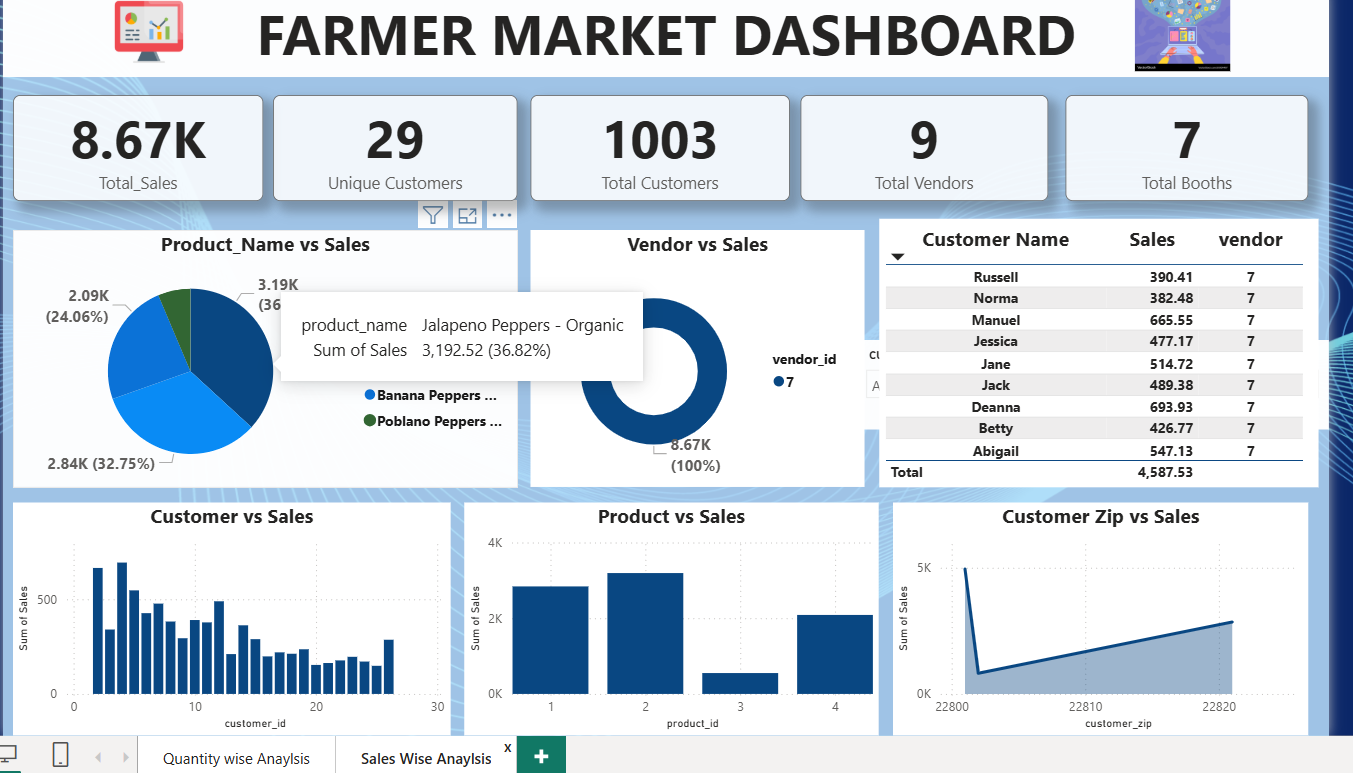

Layout of this report page (visuals, bound fields, positions):
{"tool":"powerbi","page":{"name":"Sales Wise Anaylsis","canvas":[1280,720],"ordinal":1},"visuals":[{"type":"columnChart","title":"Customer vs Sales","fields":{"Category":["customer_purchases.customer_id"],"Y":["customer_purchases.Sales"]},"box":[10,495,422.5,224.8],"z":0},{"type":"slicer","fields":{"Values":["customer_purchases.customer_id"]},"box":[823.3,337.6,456.9,86.4],"z":1000},{"type":"clusteredColumnChart","title":"Product vs Sales","fields":{"Category":["product.product_id"],"Y":["customer_purchases.Sales"]},"box":[445.3,495,399.7,224.8],"z":2000},{"type":"pieChart","title":"Product_Name vs Sales","fields":{"Category":["product.product_name"],"Y":["customer_purchases.Sales"]},"box":[9.6,231.9,487.1,248.4],"z":3000},{"type":"donutChart","title":"Vendor vs Sales","fields":{"Category":["customer_purchases.vendor_id"],"Y":["customer_purchases.Sales"]},"box":[509.1,231.9,322.5,248.4],"z":4000},{"type":"textbox","box":[0,0,1280.3,83.7],"z":5000},{"type":"image","box":[87.8,0,105.7,81],"z":6000},{"type":"image","box":[1063.5,0,150.9,83.7],"z":7000},{"type":"card","fields":{"Values":["customer_purchases.Total_Sales"]},"box":[10,101,241.8,102.4],"z":8000},{"type":"card","fields":{"Values":["customer_purchases.customer_id"]},"box":[260.3,101,236.1,102.4],"z":9000},{"type":"card","fields":{"Values":["customer_purchases.customer_id"]},"box":[509.3,101,250.4,102.4],"z":10000},{"type":"card","fields":{"Values":["vendor.vendor_id"]},"box":[769.6,101,239,102.4],"z":11000},{"type":"card","fields":{"Values":["vendor_booth_assignments.booth_number"]},"box":[1025.7,101,234.7,102.4],"z":12000},{"type":"tableEx","fields":{"Values":["customer.customer_first_name","customer_purchases.Sales","vendor.vendor_id"]},"box":[845.3,220.9,424,259.3],"z":13000},{"type":"areaChart","title":"Customer Zip vs Sales","fields":{"Category":["customer.customer_zip"],"Y":["customer_purchases.Sales"]},"box":[859.2,495,401.2,224.8],"z":14000}]}

Visuals, with their boxes on the page's 1280x720 design canvas (x1, y1, x2, y2). These are canvas units, not pixel positions in the 1353x773 screenshot, which may show the page scaled, cropped or inside an application window:
"Customer vs Sales" columnChart: 10 495 432 720
slicer - customer_purchases.customer_id: 823 338 1280 424
"Product vs Sales" clusteredColumnChart: 445 495 845 720
"Product_Name vs Sales" pieChart: 10 232 497 480
"Vendor vs Sales" donutChart: 509 232 832 480
textbox: 0 0 1280 84
image: 88 0 194 81
image: 1064 0 1214 84
card - customer_purchases.Total_Sales: 10 101 252 203
card - customer_purchases.customer_id: 260 101 496 203
card - customer_purchases.customer_id: 509 101 760 203
card - vendor.vendor_id: 770 101 1009 203
card - vendor_booth_assignments.booth_number: 1026 101 1260 203
tableEx - customer.customer_first_name x customer_purchases.Sales: 845 221 1269 480
"Customer Zip vs Sales" areaChart: 859 495 1260 720
